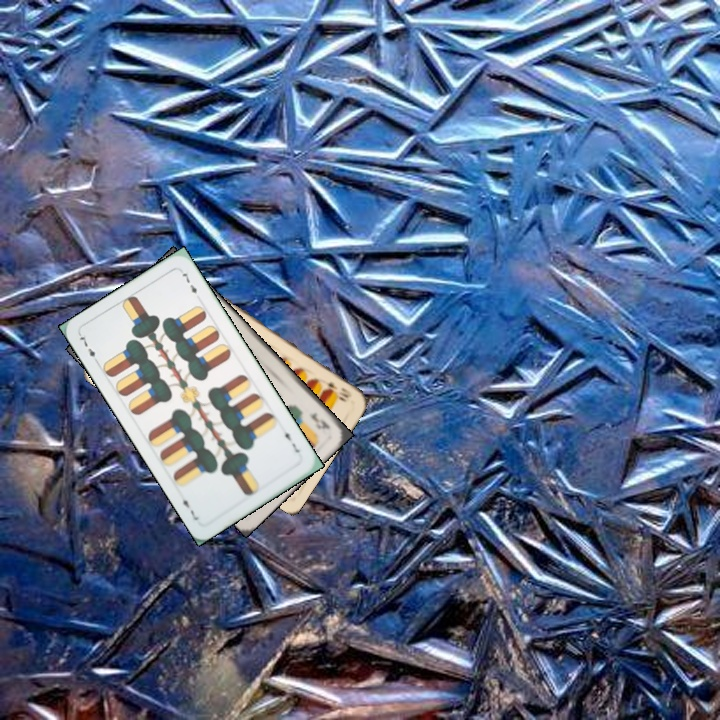E10: (324, 378, 354, 401)
E7: (280, 424, 302, 455), (75, 330, 98, 359)
EK: (305, 409, 333, 432)
